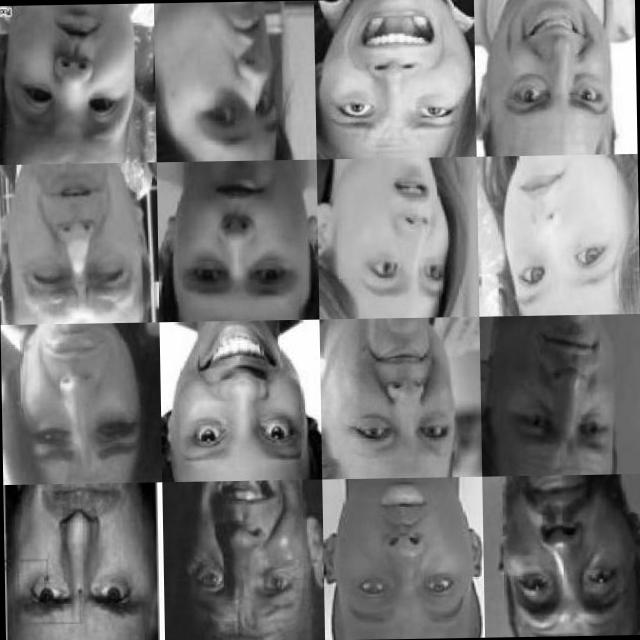angry: (11, 483, 150, 639), (8, 165, 140, 312)
fear: (154, 4, 296, 151), (323, 0, 465, 140), (334, 156, 462, 311)
happy: (169, 484, 317, 640), (332, 318, 468, 473), (484, 5, 626, 150), (175, 326, 302, 468)
neutral: (326, 479, 484, 636), (0, 3, 145, 160), (160, 156, 308, 304), (489, 316, 628, 469), (496, 158, 635, 308)
sad: (489, 471, 640, 628), (14, 323, 146, 473)
